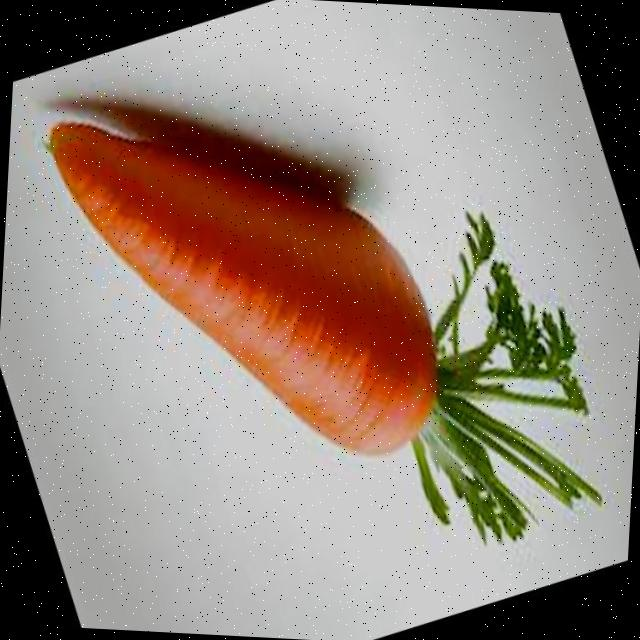carrot: (49, 123, 601, 541)
